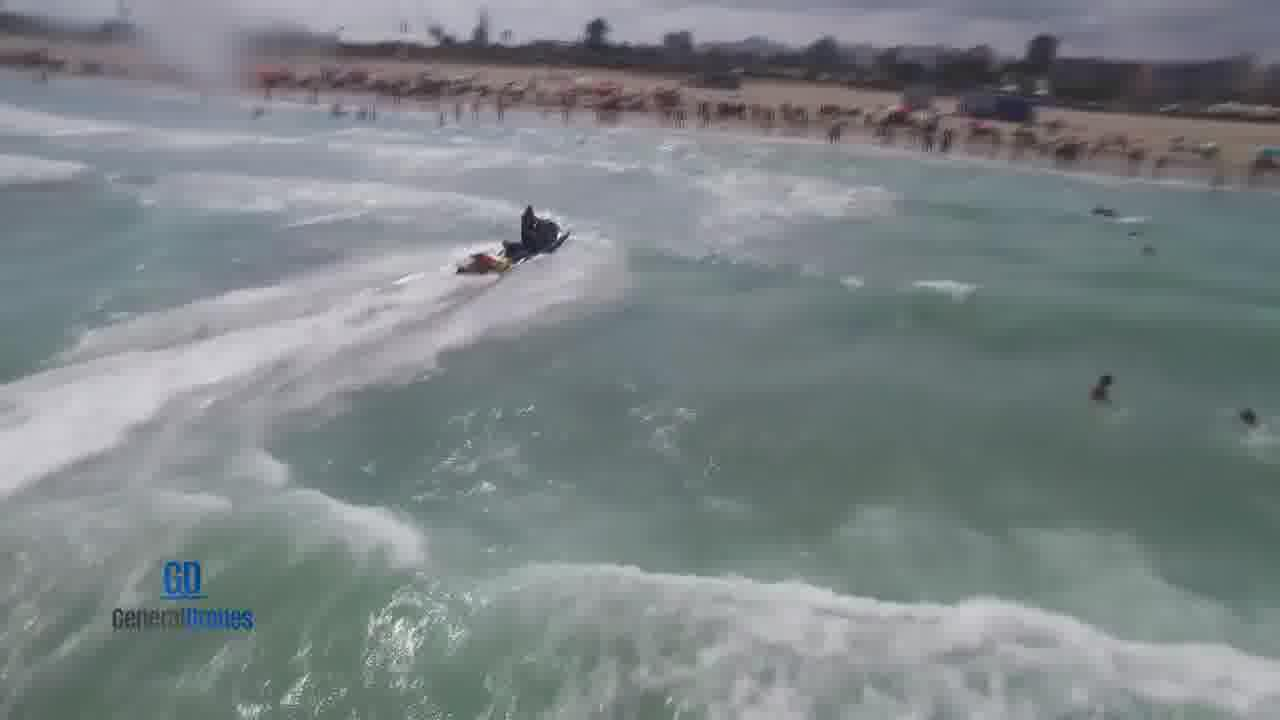swimmer: (1083, 360, 1129, 410), (1224, 393, 1271, 437)
